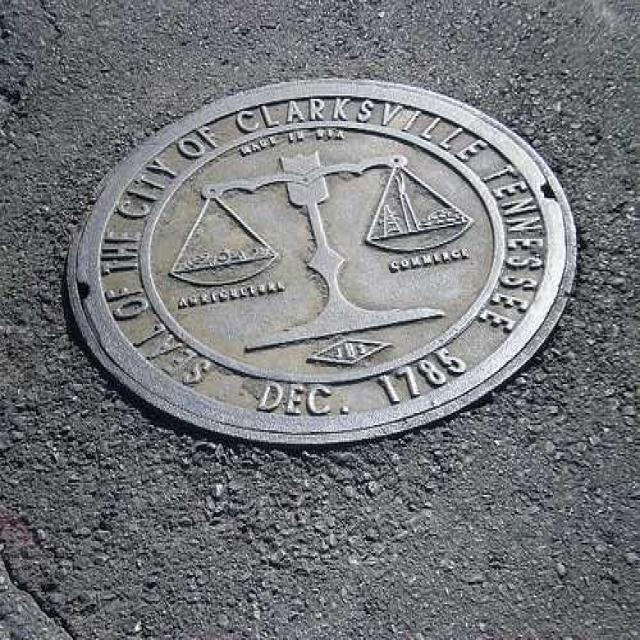manhole: (66, 80, 576, 445)
